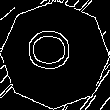O_E: (29, 32, 81, 78)
